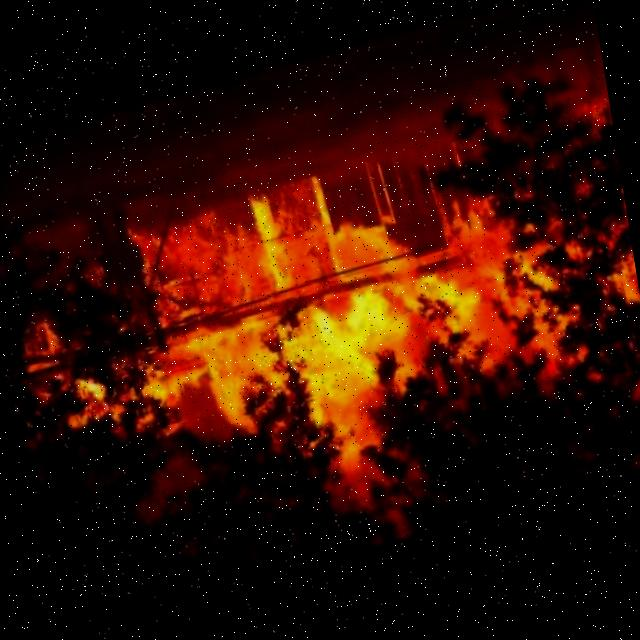fire: (22, 105, 626, 572)
